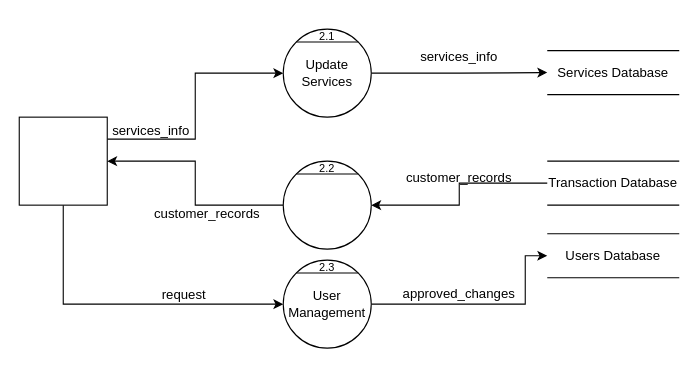
This 700x367 diagram has some shape labels left out. Here are the shapes that lost their labels. From the top down, the box of each, then its label:
(18, 116, 107, 205): Admin
(282, 160, 371, 249): View Transaction
